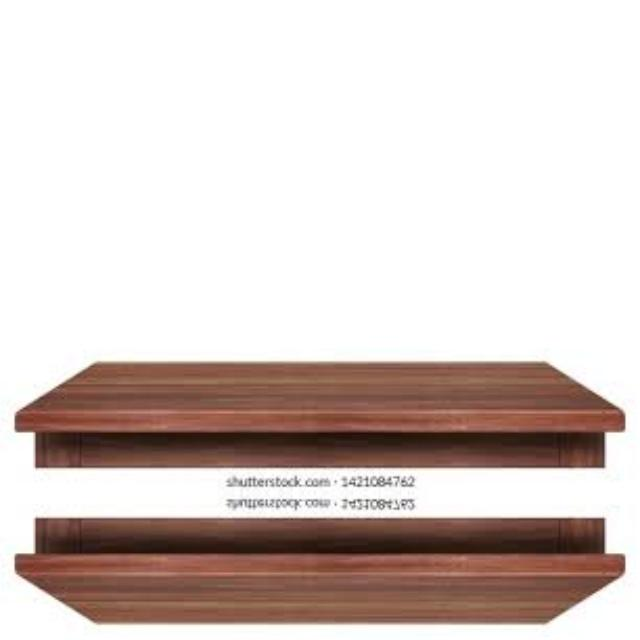obstacle: (21, 327, 629, 469), (21, 516, 629, 640)
